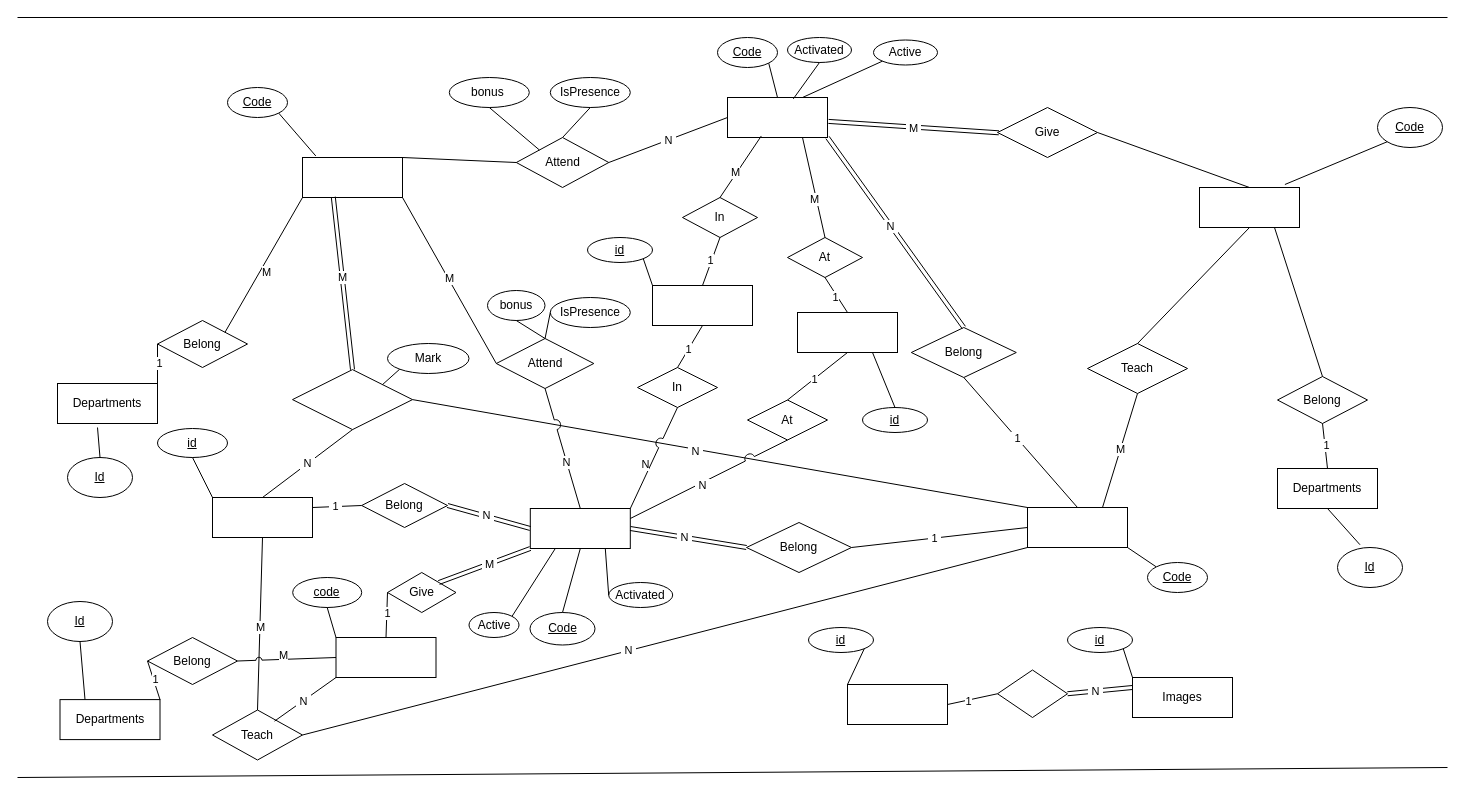
The diagram is 1466 pixels wide and 796 high, and some of its shapes have lost their labels. Each missing label, with the centre of its shape:
Assign: [352,399]
groups: [262,517]
has: [1032,693]
Instructors: [385,657]
Lectures: [777,117]
news: [897,704]
Places: [702,305]
Professors: [1249,207]
Sessions: [579,528]
students: [352,177]
subjects: [1077,527]
Weeks: [847,332]
